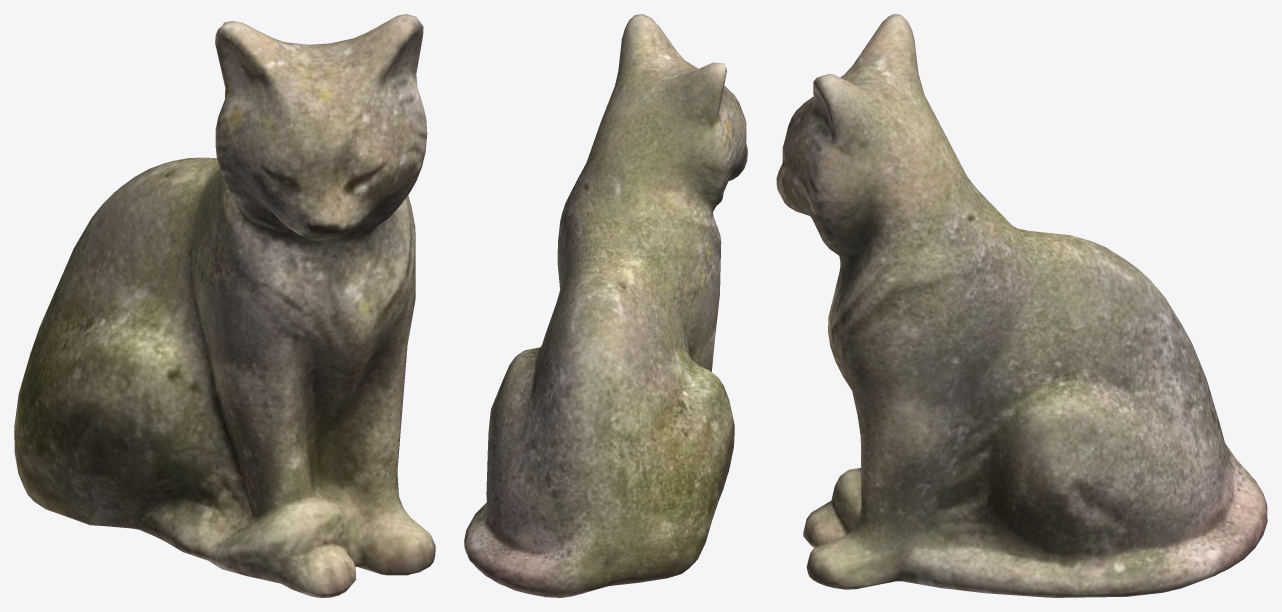
Rendered from concrete_cat_statue.glb.
The picture shows the model from 3 angles, left to right: view 1: azimuth 30°, elevation 25°; view 2: azimuth 150°, elevation 25°; view 3: azimuth 270°, elevation 25°; orthographic projection. The views are drawn at different scales.
Visible parts, largest first — view 1: concrete_cat_statue; view 2: concrete_cat_statue; view 3: concrete_cat_statue.
Boxes of the visible parts, x1=… form: concrete_cat_statue: x1=14, y1=14, x2=435, y2=597; concrete_cat_statue: x1=464, y1=14, x2=747, y2=597; concrete_cat_statue: x1=776, y1=14, x2=1267, y2=597.
Size of the model in its own units: 0.1529 by 0.2827 by 0.25.
1 material, 1 textured.
